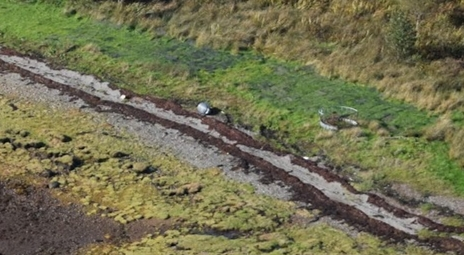white_in_green: (183, 88, 224, 128)
